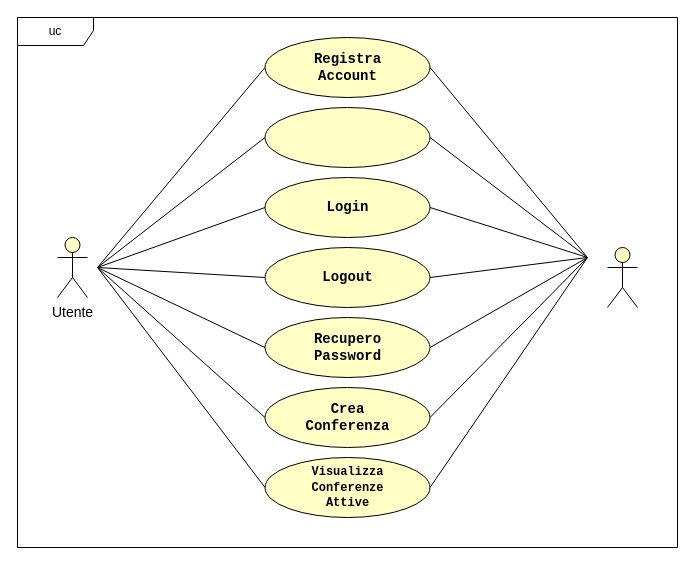
This 695x565 diagram has some shape labels left out. Each missing label, with the centre of its shape:
DBMS: the point at 622,277
Modifica Account: the point at 347,137
